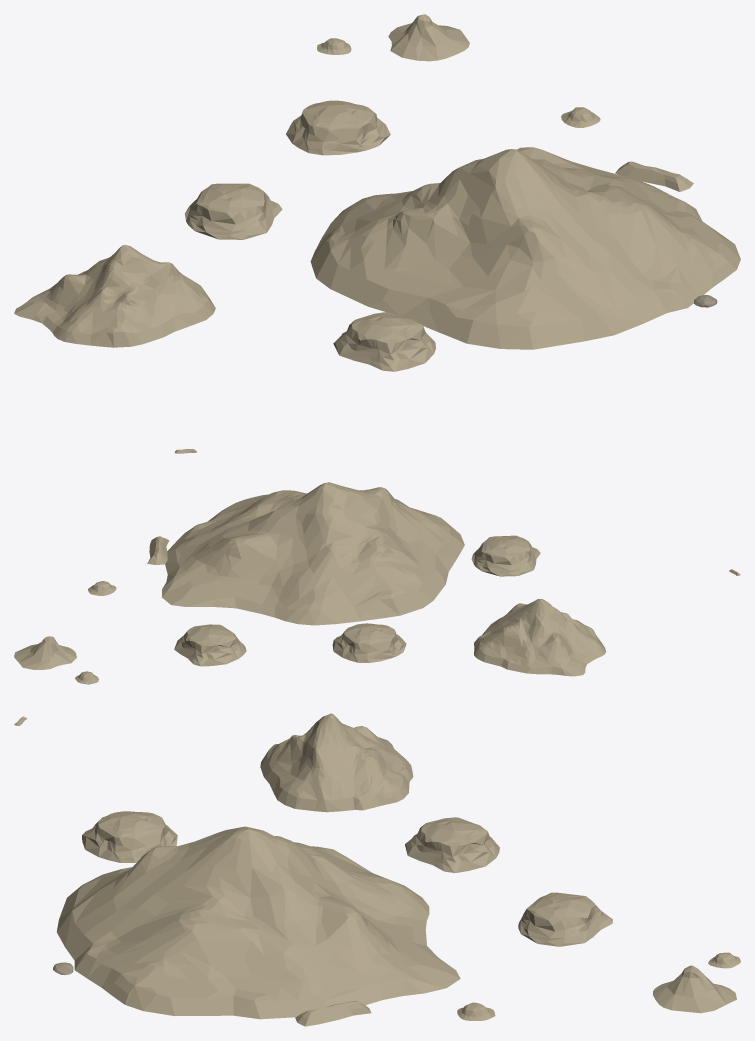
The model's file is Heightmap_Desert_Steppable.fbx.
3 views of the same model, one above another, from view 1: azimuth 30°, elevation 25°; view 2: azimuth 150°, elevation 25°; view 3: azimuth 270°, elevation 25° (orthographic). The views are drawn at different scales.
Parts seen in each view (by area): view 1: PolygonNature_04, PolygonNature_01, PolygonNature_04_1; view 2: PolygonNature_04, PolygonNature_01, PolygonNature_04_1; view 3: PolygonNature_04, PolygonNature_01, PolygonNature_04_1.
Part boxes in pixels (x1=…): PolygonNature_04: x1=14, y1=100, x2=740, y2=349; PolygonNature_01: x1=174, y1=14, x2=717, y2=453; PolygonNature_04_1: x1=333, y1=312, x2=435, y2=371; PolygonNature_04: x1=161, y1=482, x2=606, y2=676; PolygonNature_01: x1=14, y1=536, x2=740, y2=684; PolygonNature_04_1: x1=471, y1=535, x2=540, y2=576; PolygonNature_04: x1=57, y1=713, x2=612, y2=1019; PolygonNature_01: x1=14, y1=716, x2=740, y2=1026; PolygonNature_04_1: x1=82, y1=811, x2=177, y2=862.
Bounding box in the file's own units: 93.89 × 14.87 × 94.45.
Materials: 2 (2 with a texture image).
